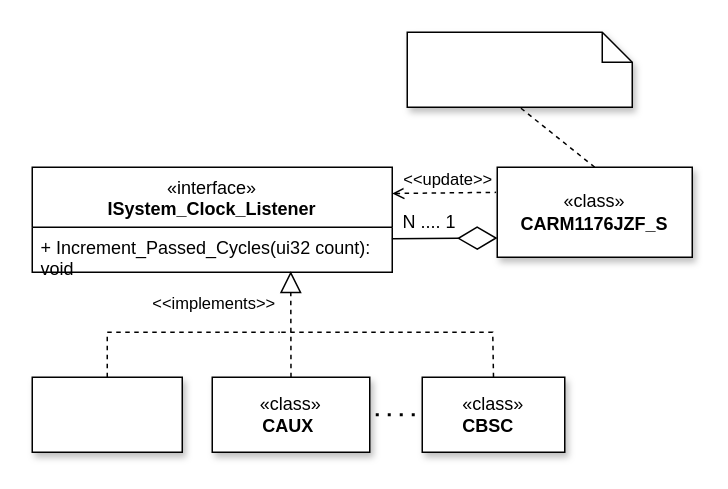
The diagram is 728 pixels wide and 489 high, and some of its shapes have lost their labels. The shapes that lost their labels are listed below. From the top down, each one's centre as x and y in pixels, then its label:
pixel 520 71: Infinitely fetches & executes instructions
pixel 108 416: «class» CARM_Timer
